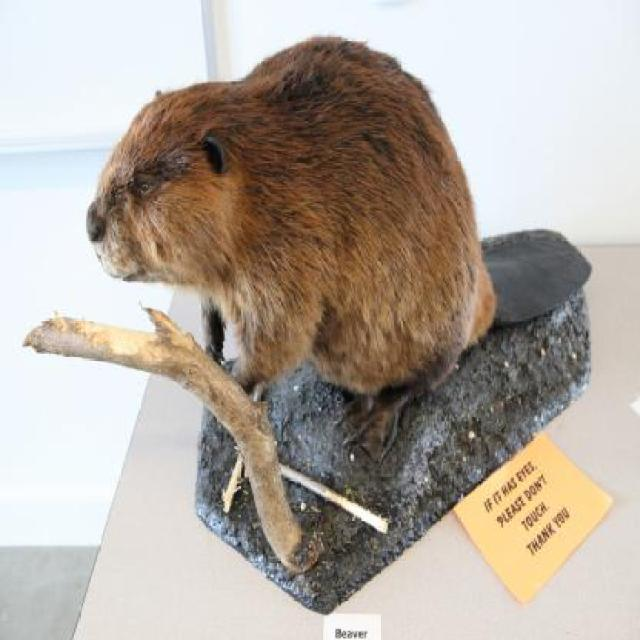Mouse: (66, 24, 509, 466)
